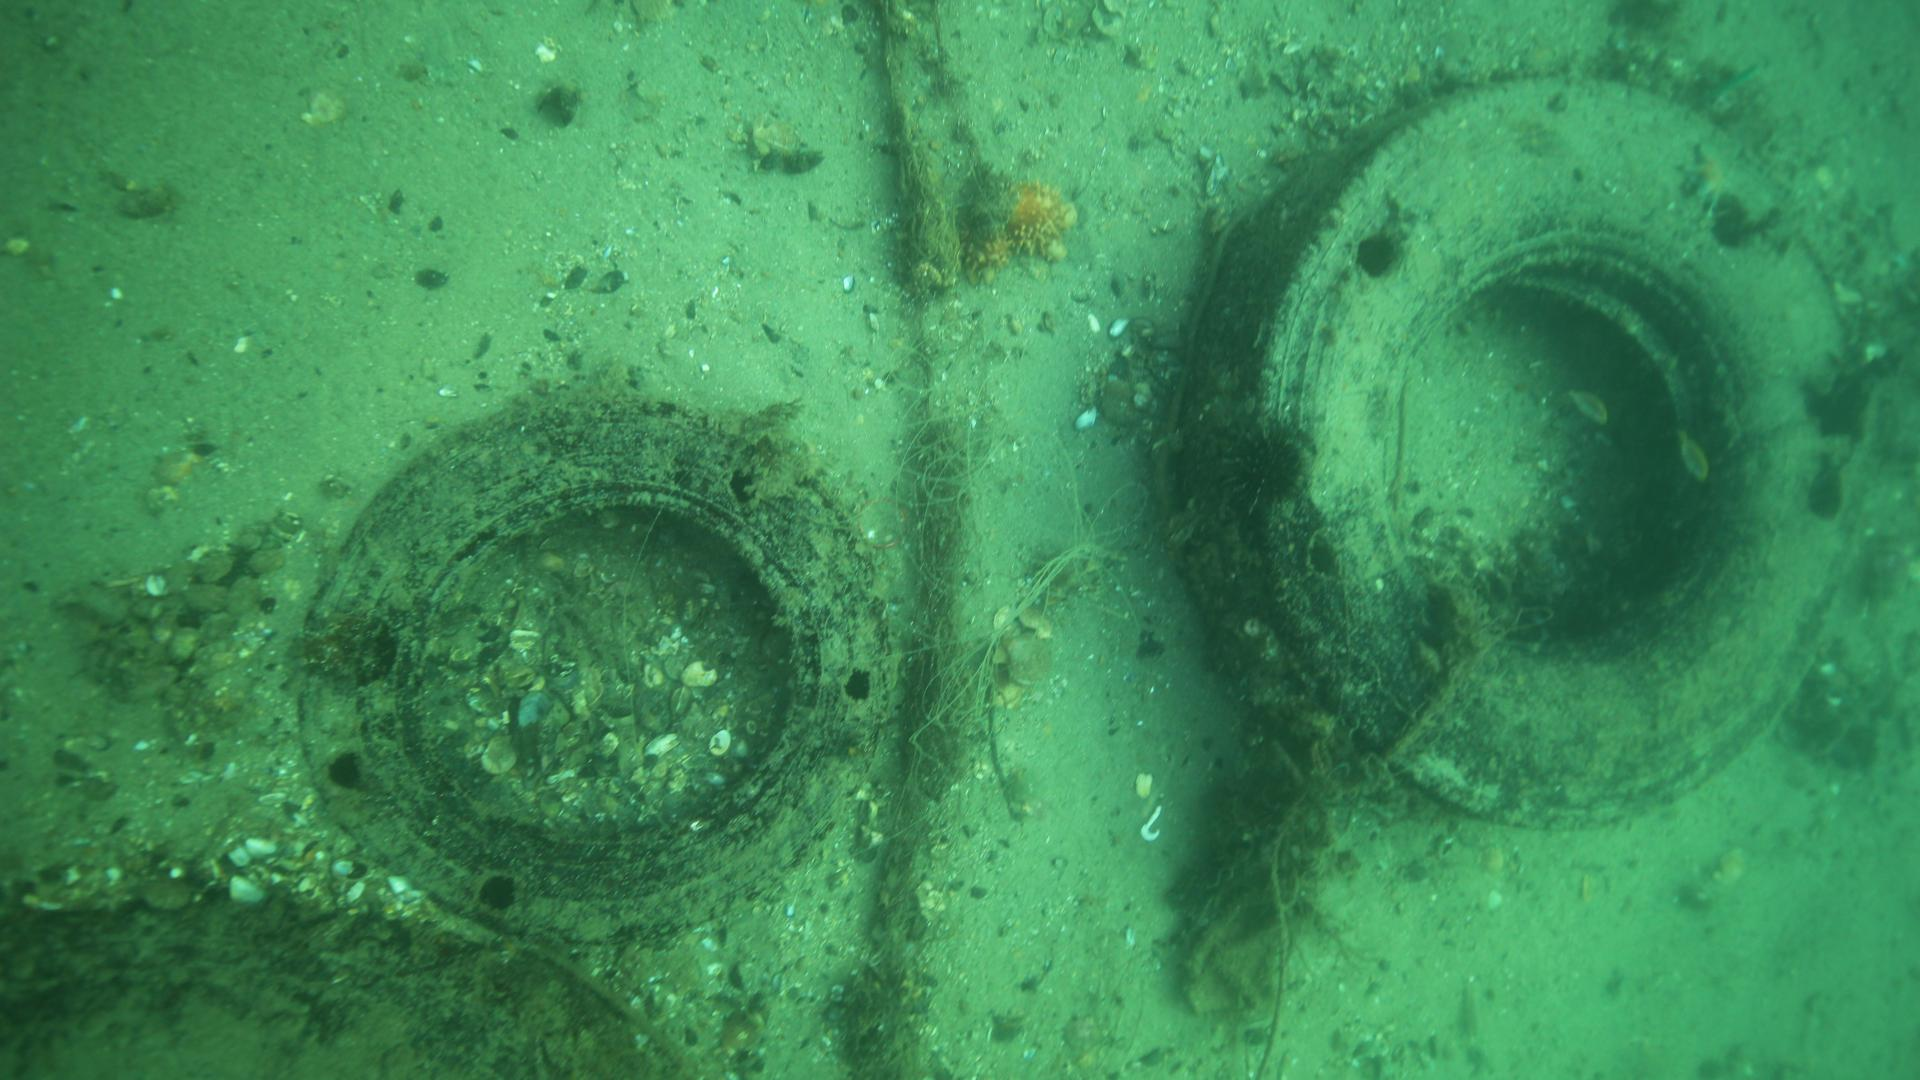tire: (1167, 69, 1863, 833), (305, 381, 891, 947)
